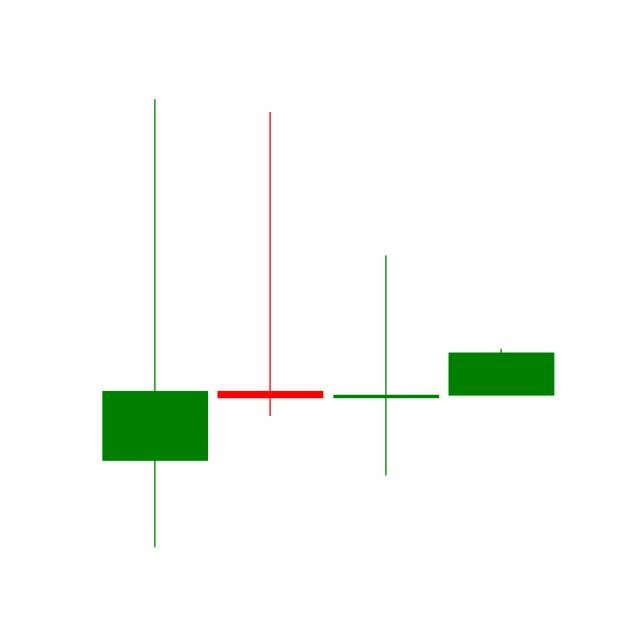Marubozu: (443, 348, 559, 396)
